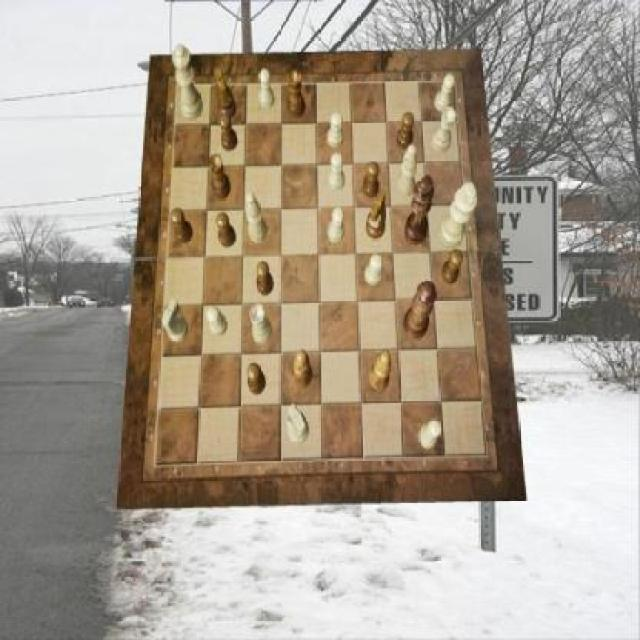bishop: (370, 349, 392, 391), (294, 351, 314, 391)
black-bishop: (404, 176, 434, 247)
black-king: (214, 69, 237, 120), (366, 191, 387, 240)
black-knight: (441, 249, 464, 284), (171, 209, 193, 244), (218, 114, 238, 152), (217, 212, 237, 248), (397, 111, 415, 149), (255, 262, 273, 296), (363, 162, 380, 198), (247, 363, 266, 395)
black-pawn: (403, 280, 437, 340)
black-queen: (209, 154, 232, 200), (286, 71, 306, 118)
black-rook: (246, 192, 267, 245), (396, 144, 416, 198)
white-bishop: (438, 183, 478, 249)
white-king: (162, 298, 188, 342), (288, 404, 310, 444)
white-knight: (436, 74, 456, 112), (420, 420, 443, 451), (258, 69, 274, 109), (208, 306, 228, 337), (328, 152, 344, 190), (328, 112, 344, 148), (365, 254, 382, 286), (328, 208, 344, 242)
white-pawn: (172, 45, 203, 119)
white-queen: (432, 106, 457, 152), (249, 304, 272, 344)
